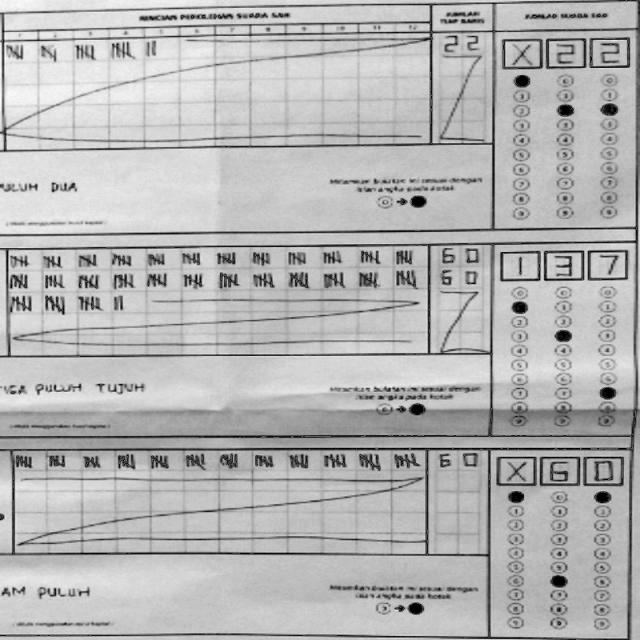Suara: (499, 32, 634, 70), (491, 450, 626, 488), (496, 248, 629, 281)
